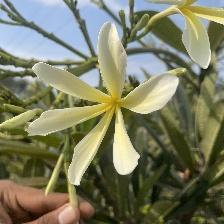champaka: (26, 20, 184, 190), (149, 1, 224, 71)
